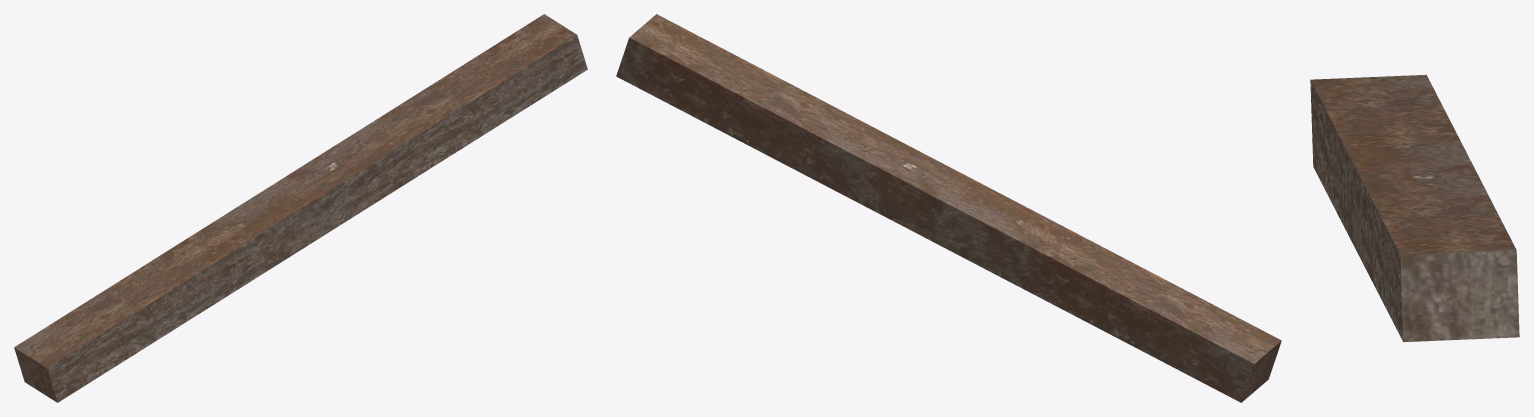
The model's file is BoxWoodB_S.glb.
3 renders of one model, left to right at view 1: azimuth 30°, elevation 25°; view 2: azimuth 150°, elevation 25°; view 3: azimuth 270°, elevation 25°, orthographic. The views are drawn at different scales.
Parts seen in each view (by area): view 1: BoxWoodB_S; view 2: BoxWoodB_S; view 3: BoxWoodB_S.
Boxes of the visible parts, x1=… form: BoxWoodB_S: x1=14, y1=14, x2=587, y2=402; BoxWoodB_S: x1=616, y1=14, x2=1281, y2=402; BoxWoodB_S: x1=1310, y1=74, x2=1519, y2=342.
Size of the model in its own units: 1.27 by 0.4722 by 0.2029.
Materials: 1 (1 with a texture image).
